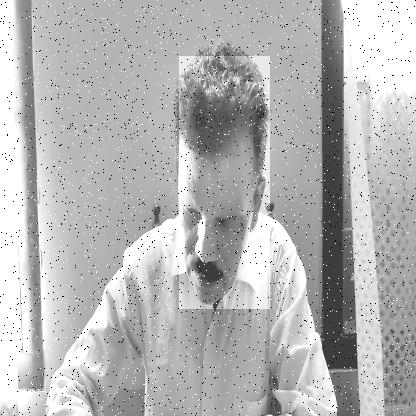Normal: (179, 56, 270, 309)
